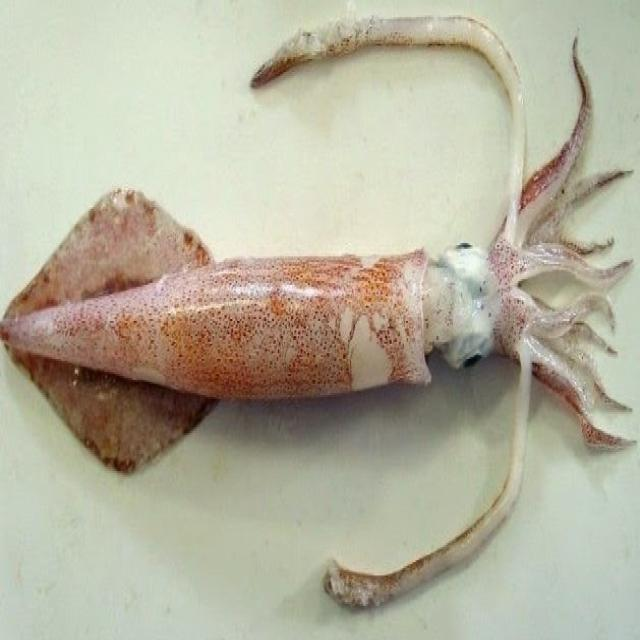SQUID: (0, 74, 640, 528)
